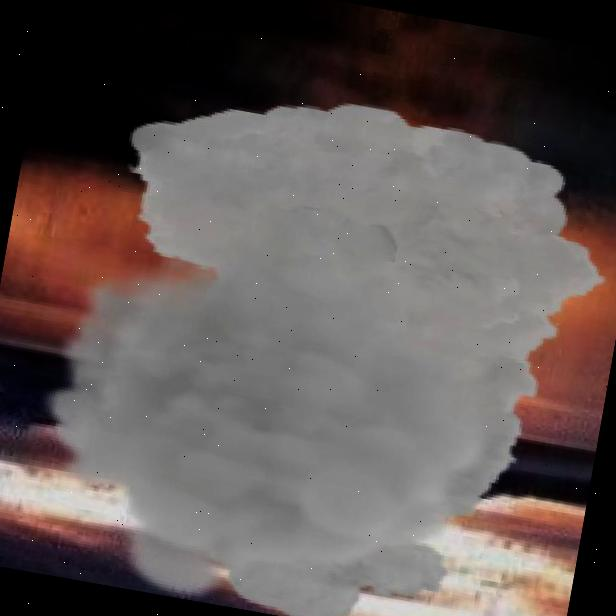smoke: (9, 56, 616, 616)
